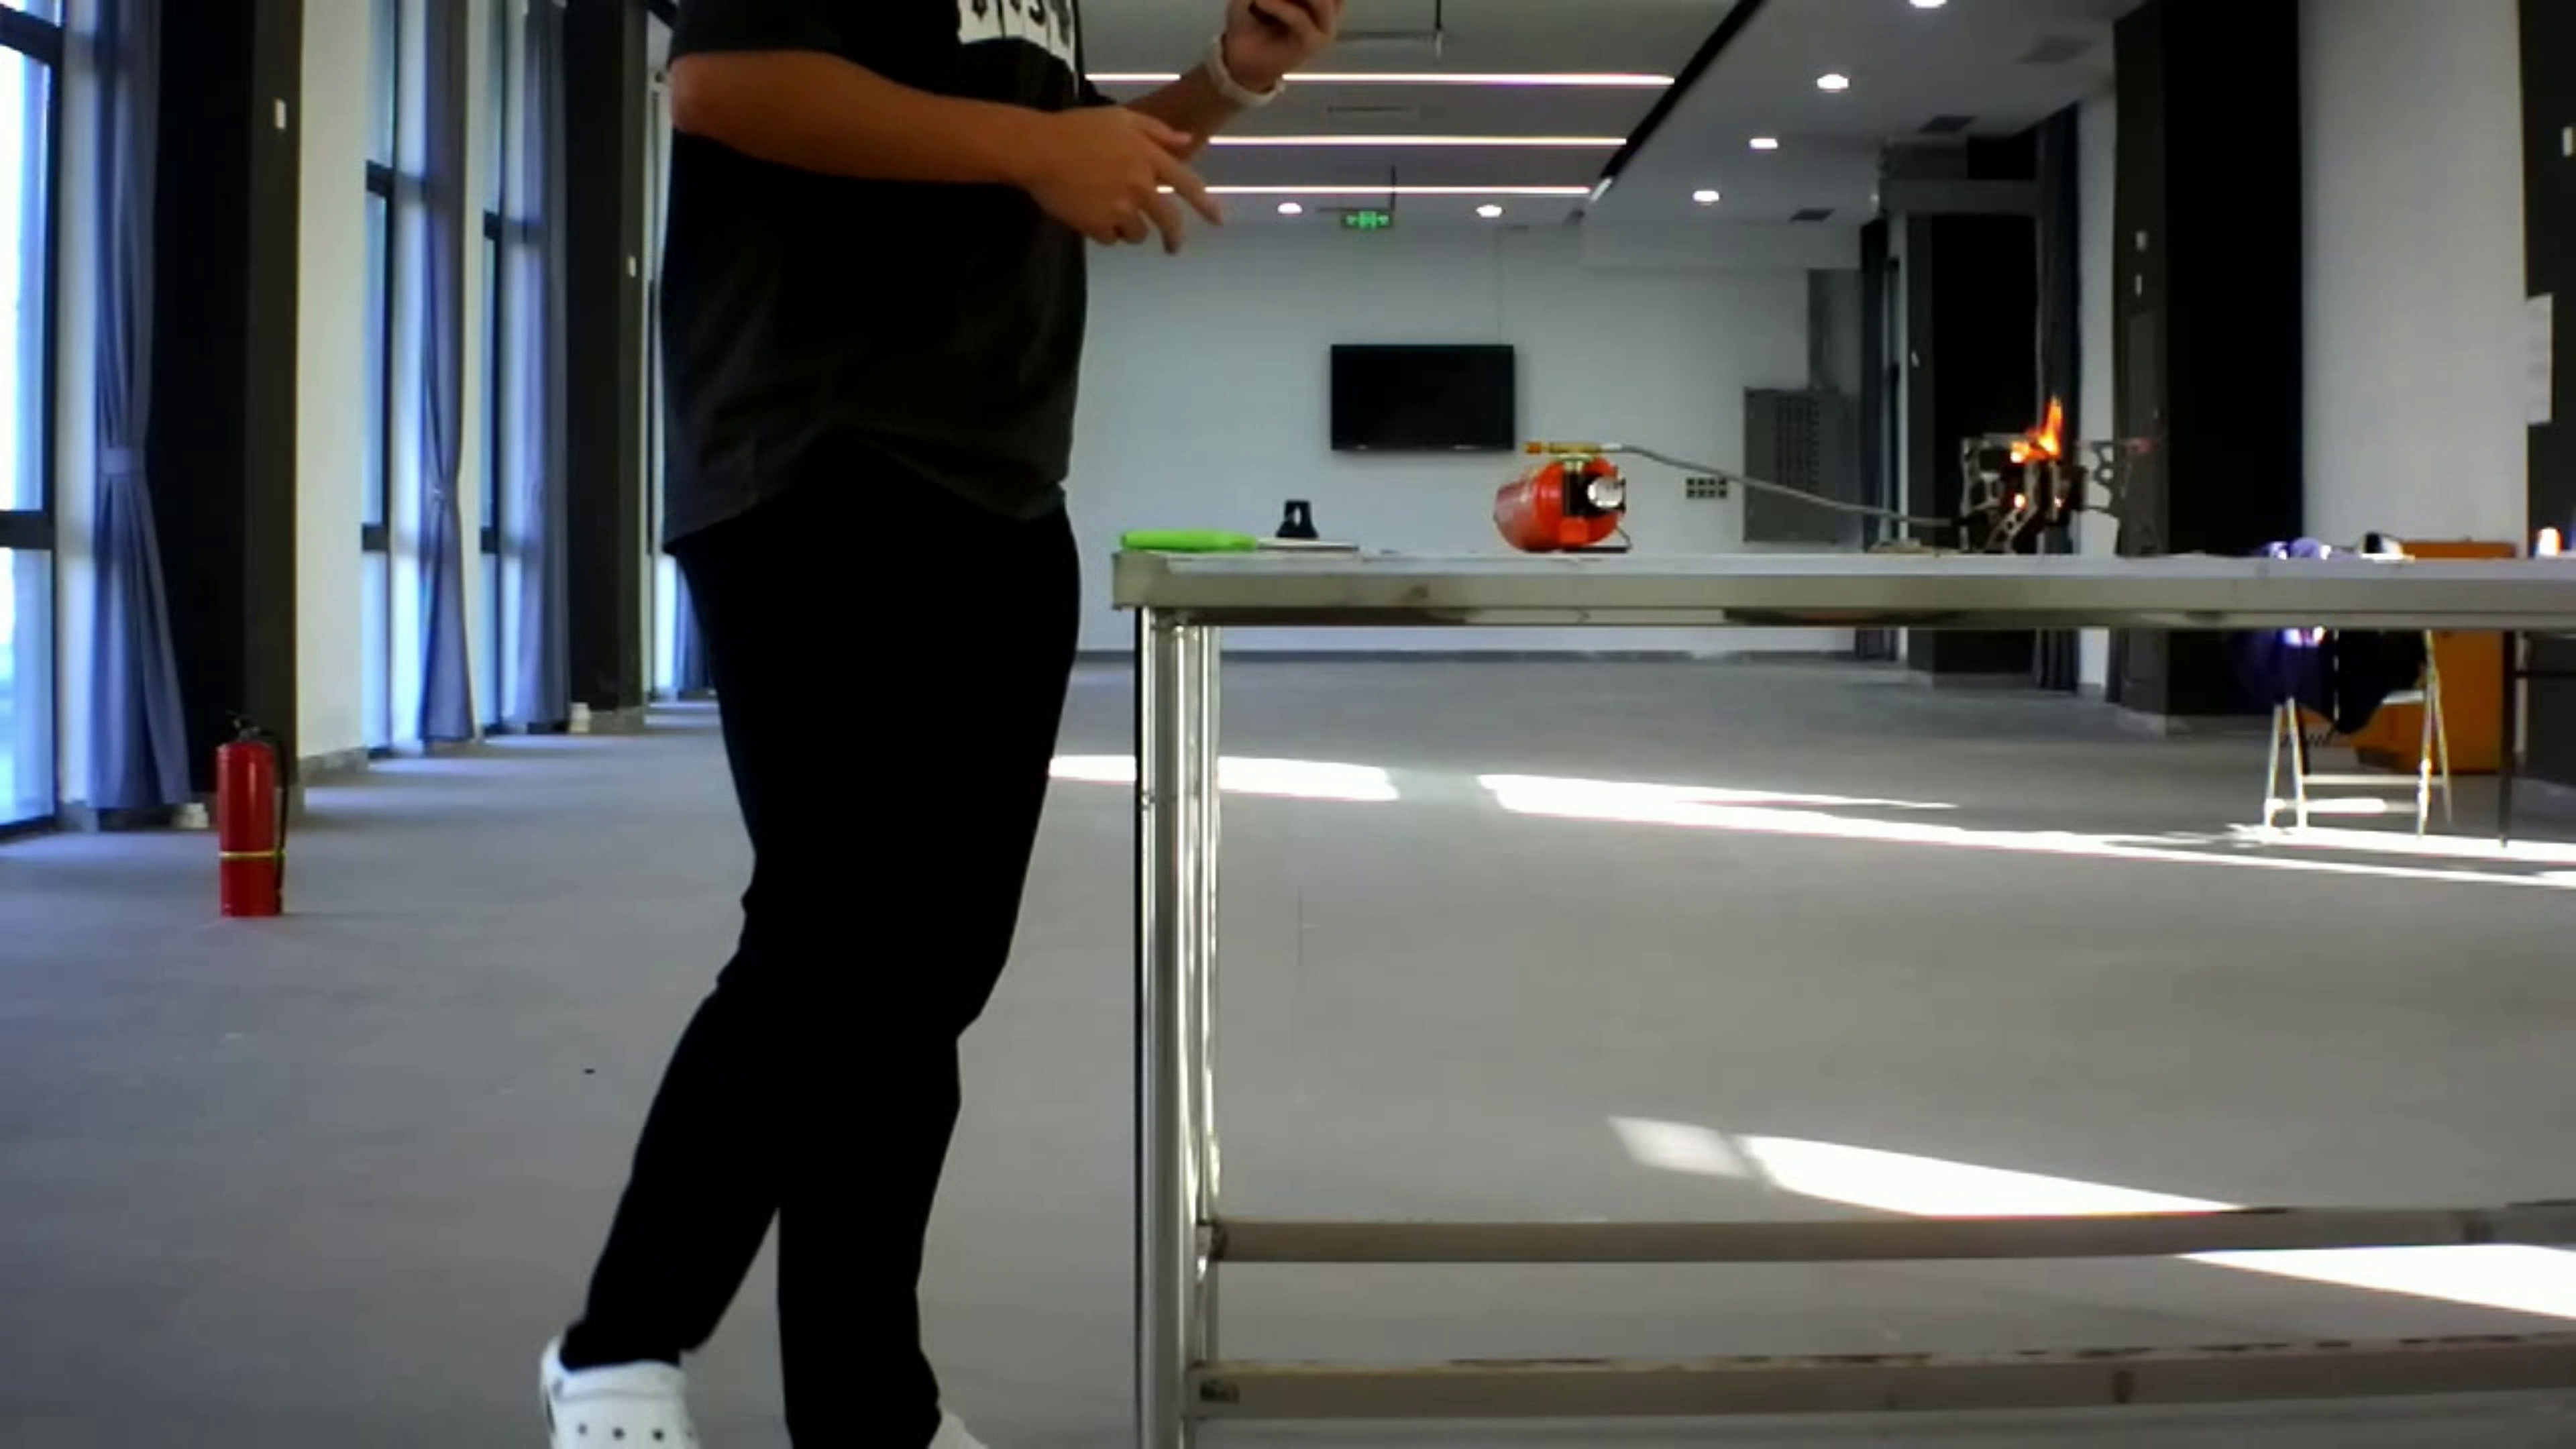Fire: (1983, 384, 2074, 494)
